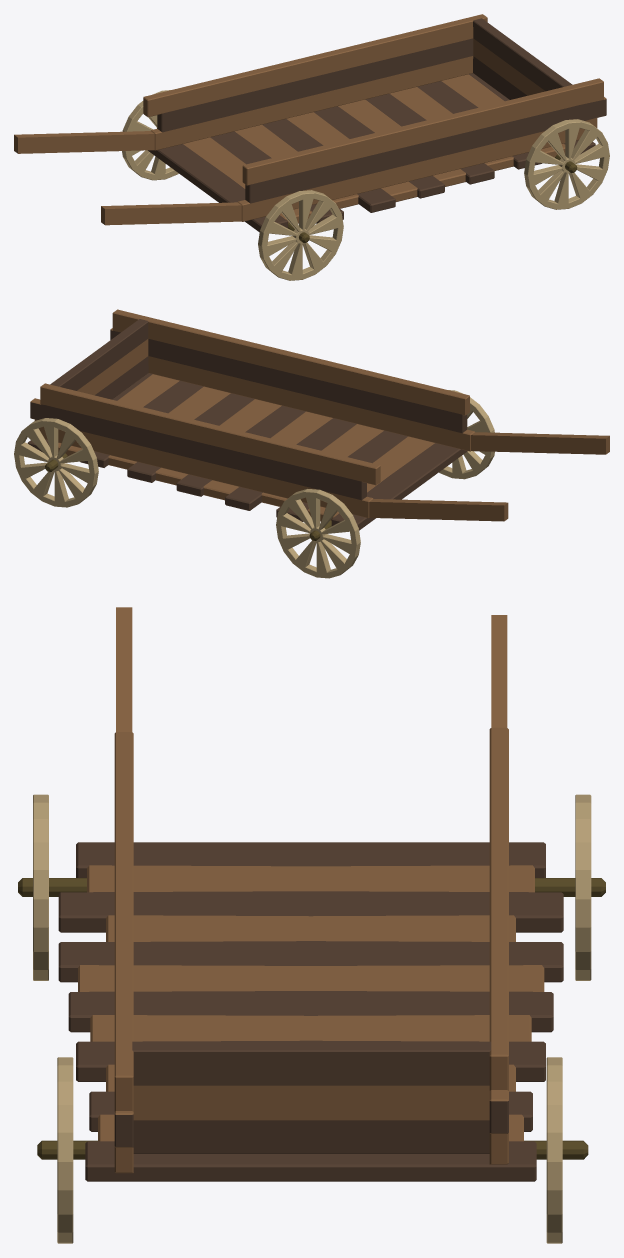
File: Wagon.fbx
3 renders of one model, top to bottom at view 1: azimuth 30°, elevation 25°; view 2: azimuth 150°, elevation 25°; view 3: azimuth 270°, elevation 25°, orthographic. The views are drawn at different scales.
Visible parts, largest first — view 1: Node; view 2: Node; view 3: Node.
Boxes of the visible parts, box(x1,y1,x2,y2) form: Node: box(14, 14, 609, 280); Node: box(14, 309, 609, 578); Node: box(18, 607, 605, 1243).
Size of the model in its own units: 2987 by 597 by 1535.
